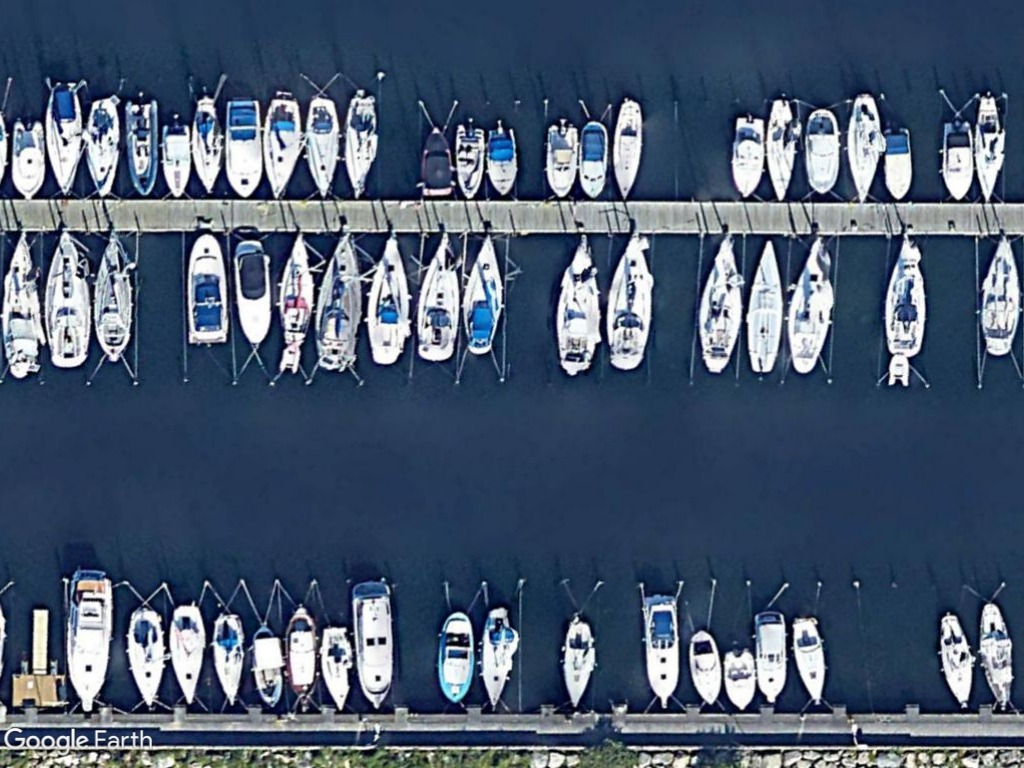boat: (59, 567, 120, 716), (310, 230, 368, 373), (603, 229, 658, 376), (551, 229, 603, 381), (409, 228, 466, 366), (344, 576, 401, 713), (693, 229, 745, 379), (362, 228, 417, 369), (784, 236, 837, 377), (88, 226, 139, 363), (45, 225, 92, 369), (459, 229, 509, 361), (879, 229, 930, 357), (742, 231, 786, 377), (2, 227, 42, 381), (976, 228, 1021, 360), (638, 589, 685, 709), (973, 598, 1019, 714), (184, 229, 229, 347), (42, 75, 85, 197), (934, 608, 982, 712), (338, 92, 385, 198), (164, 598, 207, 713), (231, 236, 275, 347), (477, 601, 521, 711), (274, 231, 317, 343), (222, 92, 266, 201), (261, 89, 304, 200), (761, 91, 803, 204), (845, 89, 885, 204), (303, 90, 344, 202), (749, 607, 794, 709), (189, 88, 229, 201), (209, 608, 251, 714), (788, 610, 831, 713), (434, 604, 476, 708), (122, 92, 162, 201), (82, 92, 122, 200), (126, 603, 166, 711), (284, 606, 324, 711), (973, 90, 1009, 205), (317, 620, 359, 718), (557, 612, 598, 711), (608, 95, 646, 201), (802, 103, 845, 196), (6, 114, 49, 203), (727, 110, 769, 201), (246, 623, 286, 713), (685, 624, 727, 708), (542, 119, 581, 203), (158, 118, 196, 202), (939, 117, 976, 203), (878, 123, 916, 204), (575, 118, 612, 200), (419, 122, 458, 199), (452, 121, 488, 201), (483, 124, 521, 199), (719, 645, 758, 711)
